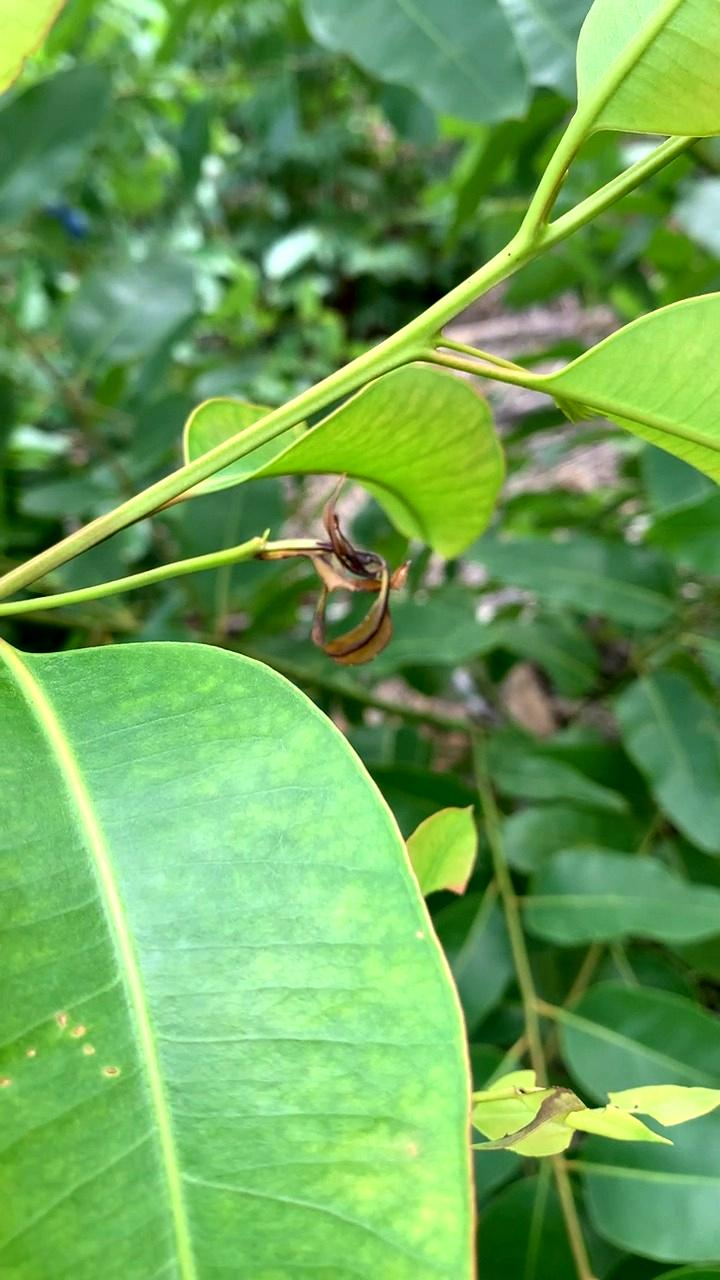Helopeltis-Withered Sprout: (286, 490, 413, 669)
